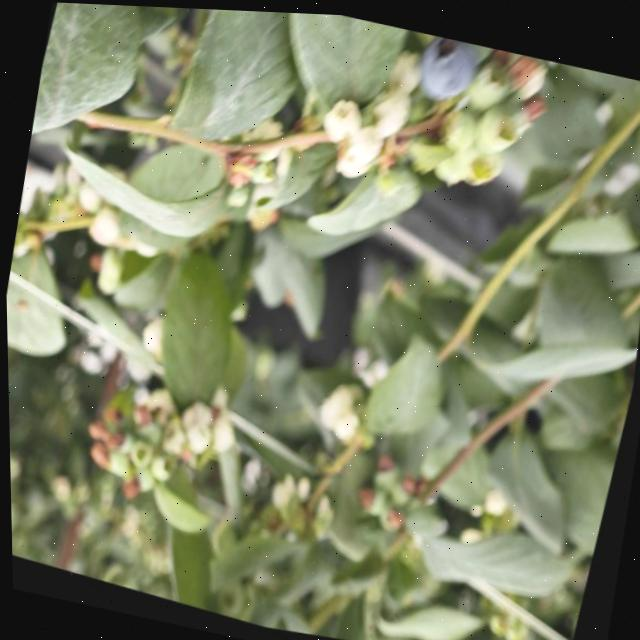RipeBlueBerry: (412, 28, 494, 114)
